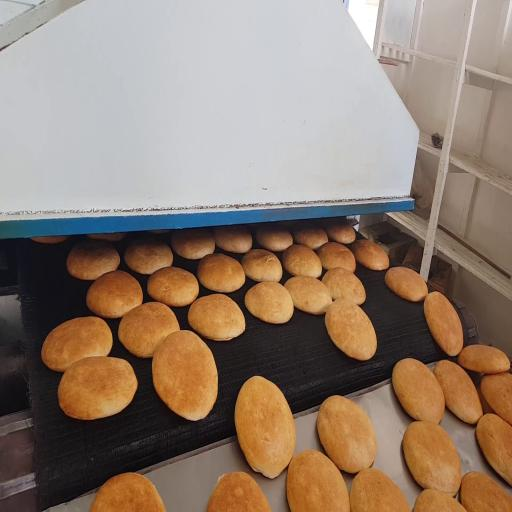bread: (235, 376, 295, 478), (152, 331, 217, 420), (58, 357, 137, 420), (317, 396, 377, 473), (403, 421, 461, 495), (42, 317, 112, 372), (287, 450, 350, 511), (392, 358, 445, 423), (118, 302, 179, 357), (434, 360, 483, 424), (325, 299, 376, 360), (90, 473, 165, 511), (188, 294, 245, 340), (87, 271, 142, 318), (350, 468, 410, 511), (424, 292, 463, 356), (207, 472, 270, 511), (476, 414, 511, 484), (67, 241, 120, 280), (147, 267, 198, 306), (245, 282, 293, 323), (461, 472, 511, 511), (197, 254, 245, 292), (285, 276, 332, 314), (124, 239, 173, 274), (481, 372, 512, 425), (322, 268, 365, 305), (458, 345, 510, 374), (385, 267, 428, 301), (171, 229, 214, 259), (242, 249, 282, 281), (283, 245, 322, 277), (318, 242, 355, 272), (352, 240, 389, 270), (414, 490, 465, 511), (213, 226, 252, 253), (256, 225, 292, 251), (293, 227, 328, 249), (325, 220, 355, 243), (477, 383, 494, 413), (87, 232, 126, 241), (31, 236, 69, 244), (148, 229, 170, 235)
